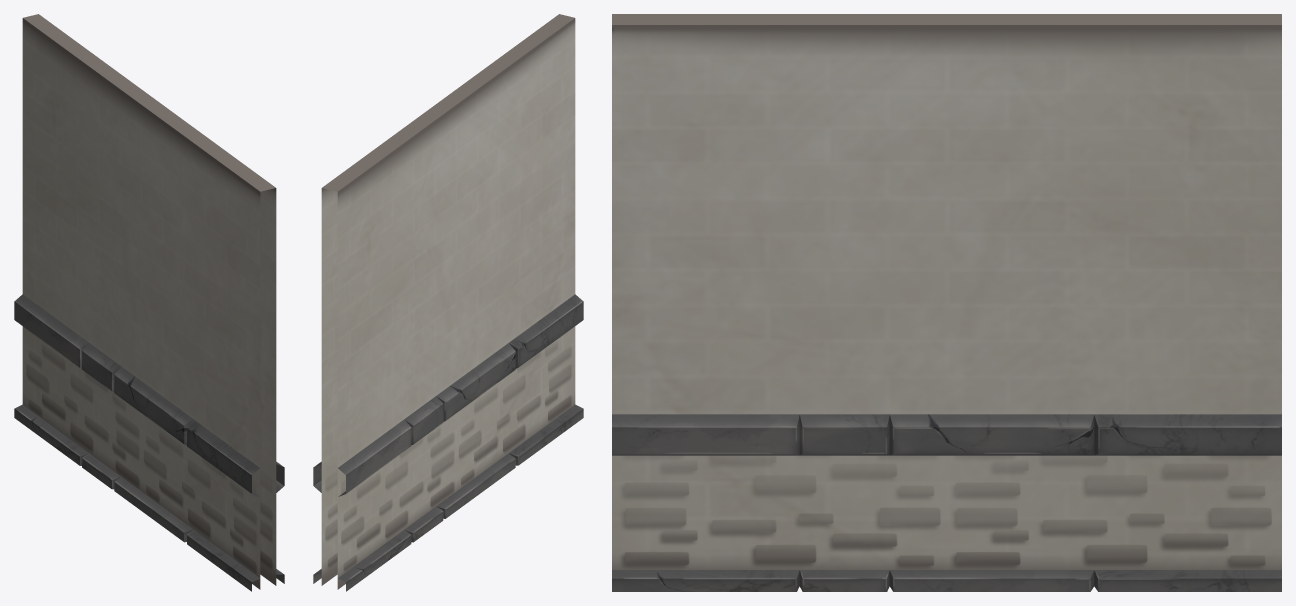
The model's file is SM_wall.fbx.
3 renders of one model, left to right at view 1: azimuth 30°, elevation 25°; view 2: azimuth 150°, elevation 25°; view 3: azimuth 270°, elevation 25°, orthographic. The views are drawn at different scales.
Visible parts, largest first — view 1: SM_wall; view 2: SM_wall; view 3: SM_wall.
Boxes of the visible parts, x1=… form: SM_wall: x1=14, y1=14, x2=284, y2=591; SM_wall: x1=313, y1=14, x2=583, y2=591; SM_wall: x1=612, y1=14, x2=1281, y2=591.
Size of the model in its own units: 0.4759 by 5.59 by 6.04.
